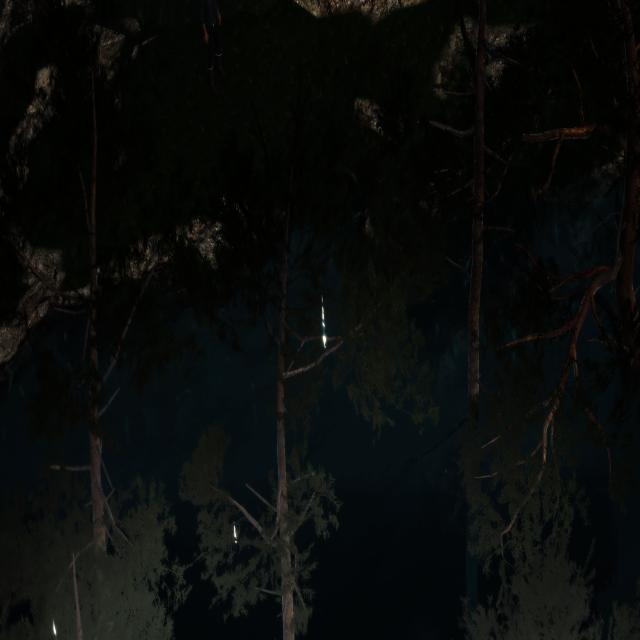Human: (202, 0, 228, 94)
